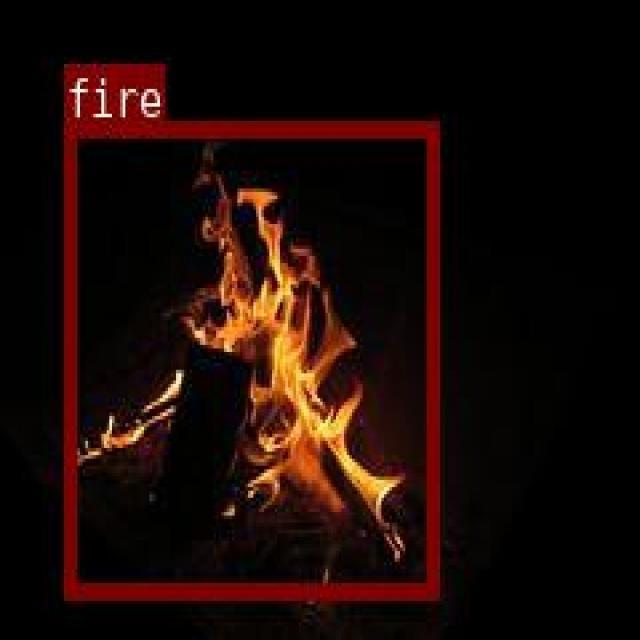fire: (64, 119, 436, 594)
